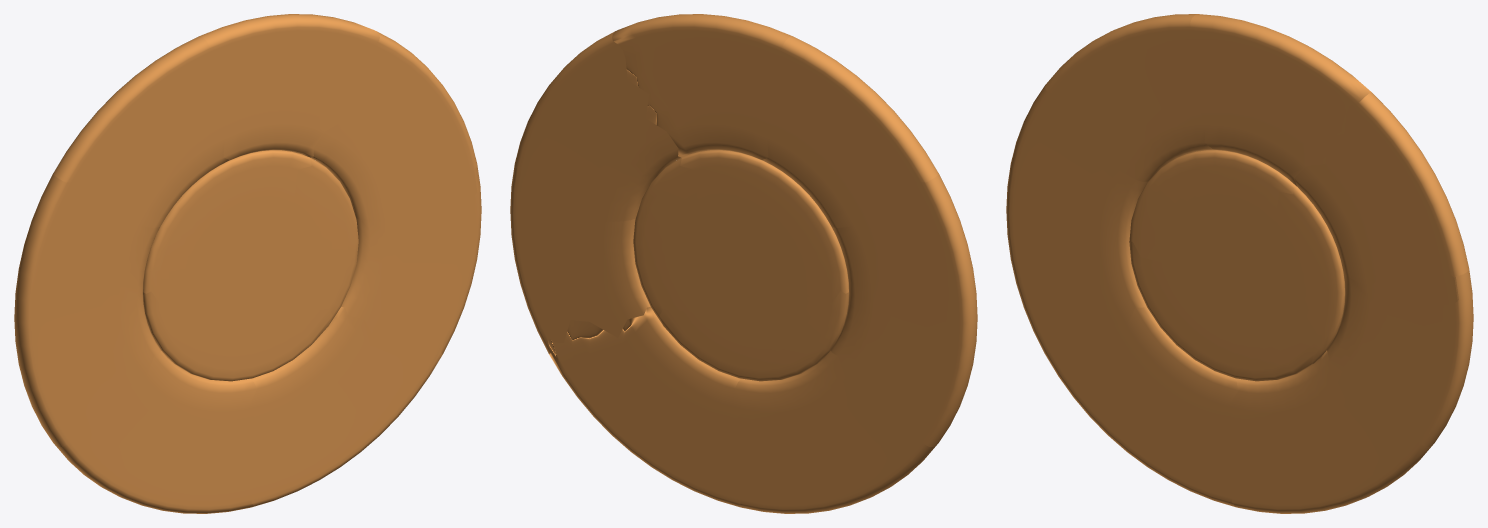
File: Candy1.fbx
3 renders of one model, left to right at view 1: azimuth 30°, elevation 25°; view 2: azimuth 150°, elevation 25°; view 3: azimuth 330°, elevation 25°, orthographic.
Parts seen in each view (by area): view 1: Цилиндр, Цилиндр.006, Цилиндр.007, Цилиндр.008, Цилиндр.003, Цилиндр.004, Цилиндр.005, Цилиндр.009, Цилиндр.011, Цилиндр.010; view 2: Цилиндр, Цилиндр.006, Цилиндр.007, Цилиндр.008, Цилиндр.003, Цилиндр.004, Цилиндр.005, Цилиндр.009, Цилиндр.011, Цилиндр.010; view 3: Цилиндр, Цилиндр.006, Цилиндр.007, Цилиндр.004, Цилиндр.003, Цилиндр.008, Цилиндр.005, Цилиндр.009, Цилиндр.011, Цилиндр.010.
Part boxes in pixels (x1,y1,x2,y2): Цилиндр: (14,174,160,446); Цилиндр.006: (239,307,444,506); Цилиндр.007: (56,350,261,513); Цилиндр.008: (53,36,229,227); Цилиндр.003: (200,14,379,160); Цилиндр.004: (311,31,477,222); Цилиндр.005: (341,165,481,353); Цилиндр.009: (143,150,311,302); Цилиндр.011: (143,268,332,381); Цилиндр.010: (253,158,358,324); Цилиндр: (831,174,977,446); Цилиндр.006: (547,307,752,506); Цилиндр.007: (730,350,935,513); Цилиндр.008: (762,36,938,227); Цилиндр.003: (612,14,791,160); Цилиндр.004: (514,31,680,222); Цилиндр.005: (510,165,650,353); Цилиндр.009: (680,150,848,302); Цилиндр.011: (659,268,848,381); Цилиндр.010: (633,158,738,324); Цилиндр: (1006,85,1147,362); Цилиндр.006: (1220,350,1432,513); Цилиндр.007: (1045,306,1241,507); Цилиндр.004: (1294,92,1469,295); Цилиндр.003: (1183,14,1371,186); Цилиндр.008: (1045,14,1215,181); Цилиндр.005: (1327,270,1473,446); Цилиндр.009: (1129,150,1296,267); Цилиндр.011: (1129,241,1314,381); Цилиндр.010: (1235,187,1344,363).
Size of the model in its own units: 608 by 608 by 26.62.
